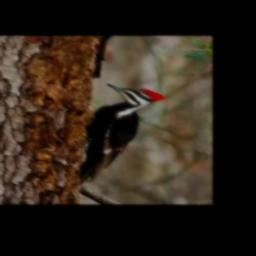Woodpecker: (79, 84, 164, 184)
